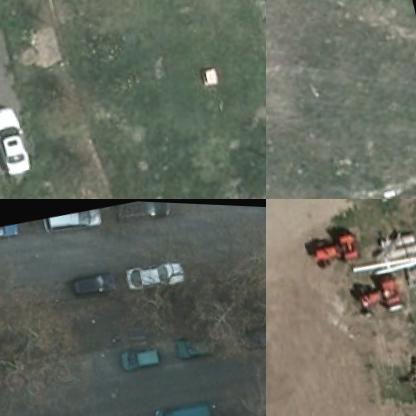car: (0, 101, 37, 175), (168, 322, 226, 358), (46, 204, 106, 238), (126, 254, 181, 288), (68, 264, 119, 300), (111, 199, 176, 226), (119, 338, 162, 368), (235, 308, 265, 348), (0, 221, 20, 249)
tractor: (350, 266, 406, 317), (307, 223, 367, 270)
van: (151, 392, 212, 415)
